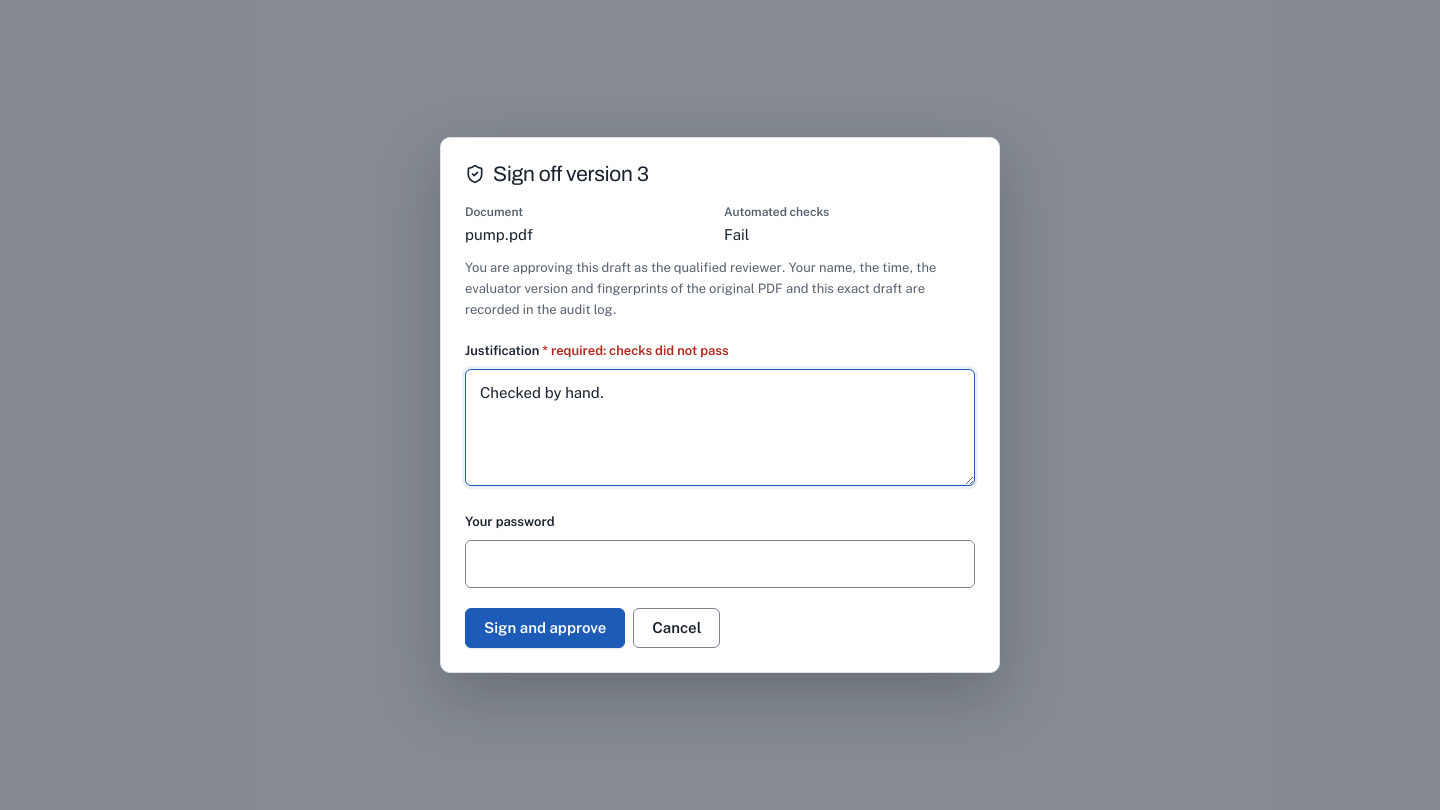
Test case: SignOffDialog › passes justification and password, and shows a server refusal in the dialog
Type "wrong" into the password field labelled "Your password" at (720, 564), box [465,540,975,588]
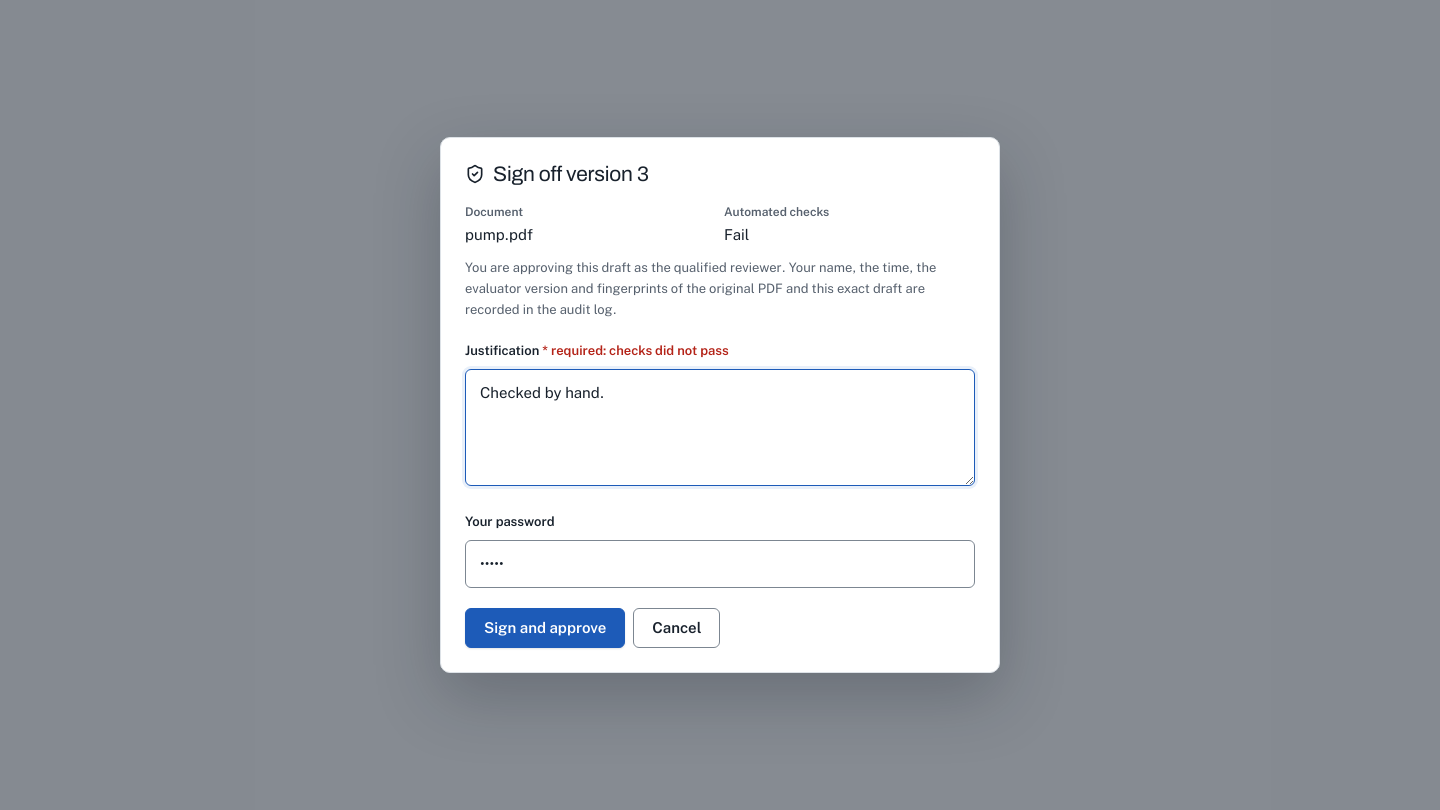
Submit the form named "Sign and approve", box [465,162,975,648]
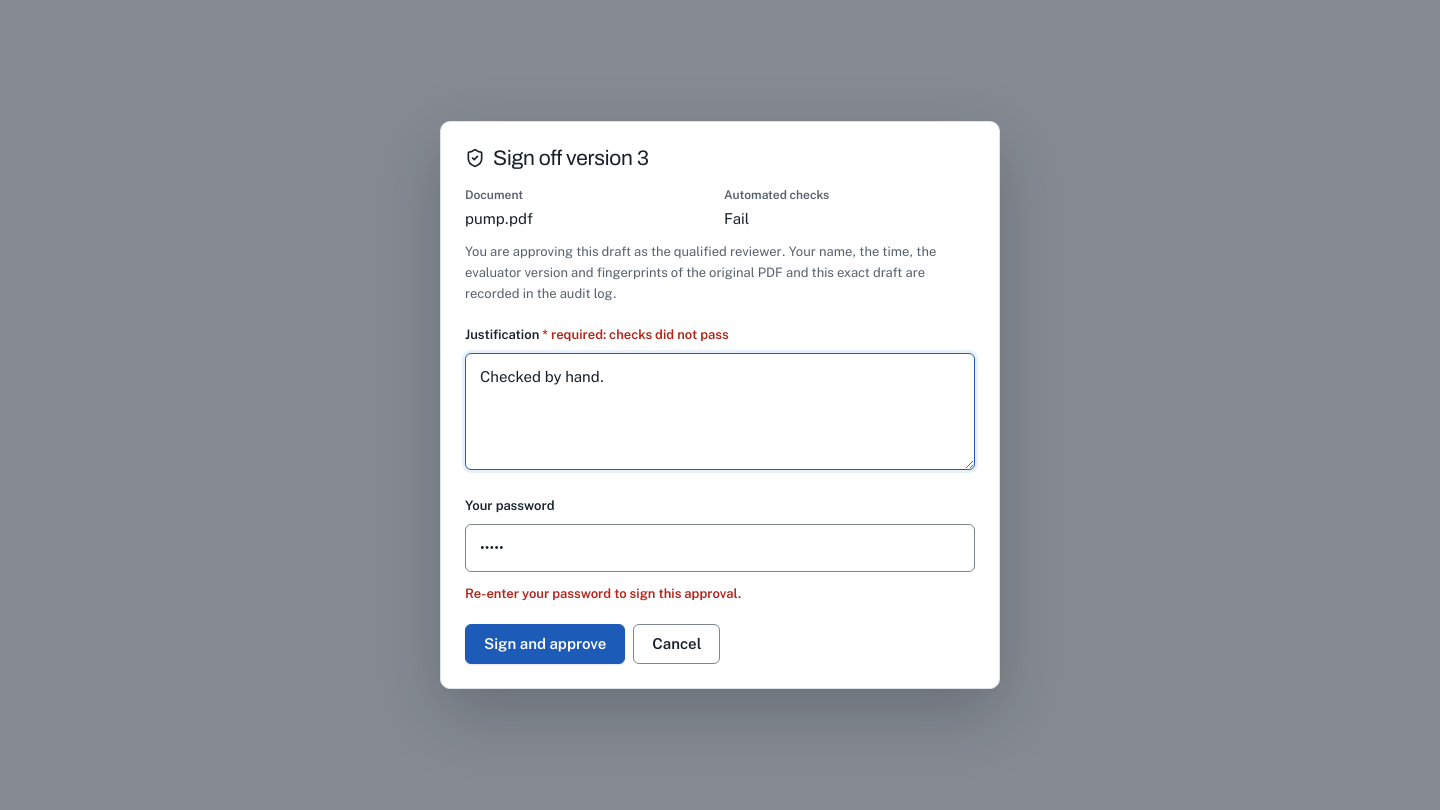
Expected: the message reads "Re-enter your password to sign this approval.", [465,586,742,600]
